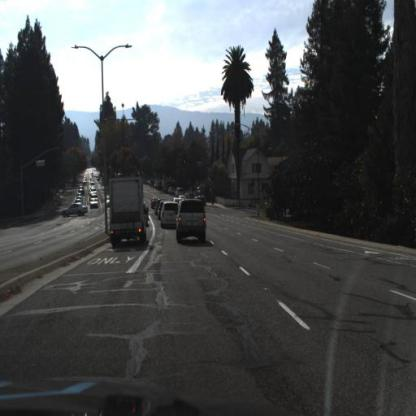car: (176, 198, 206, 242), (159, 200, 179, 230), (58, 202, 87, 219), (173, 186, 184, 198), (90, 197, 98, 209), (167, 184, 175, 194), (106, 195, 110, 206)
truck: (107, 174, 147, 248)
